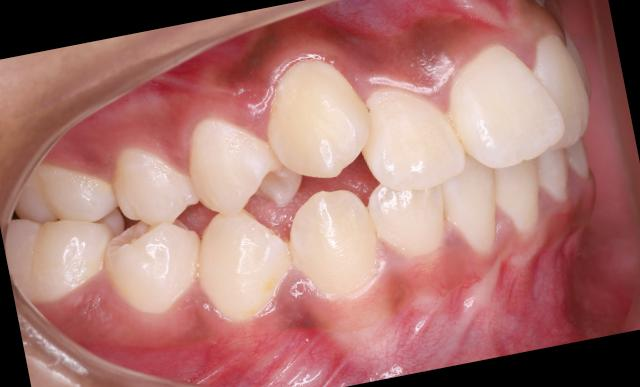canine class II 3/4: (162, 46, 406, 350)
molar class II 1/2: (0, 150, 132, 312)
